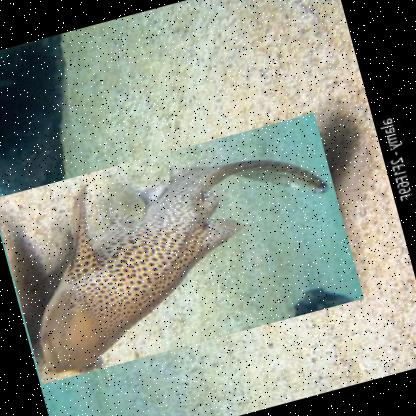zebra_shark: (0, 111, 365, 385)
